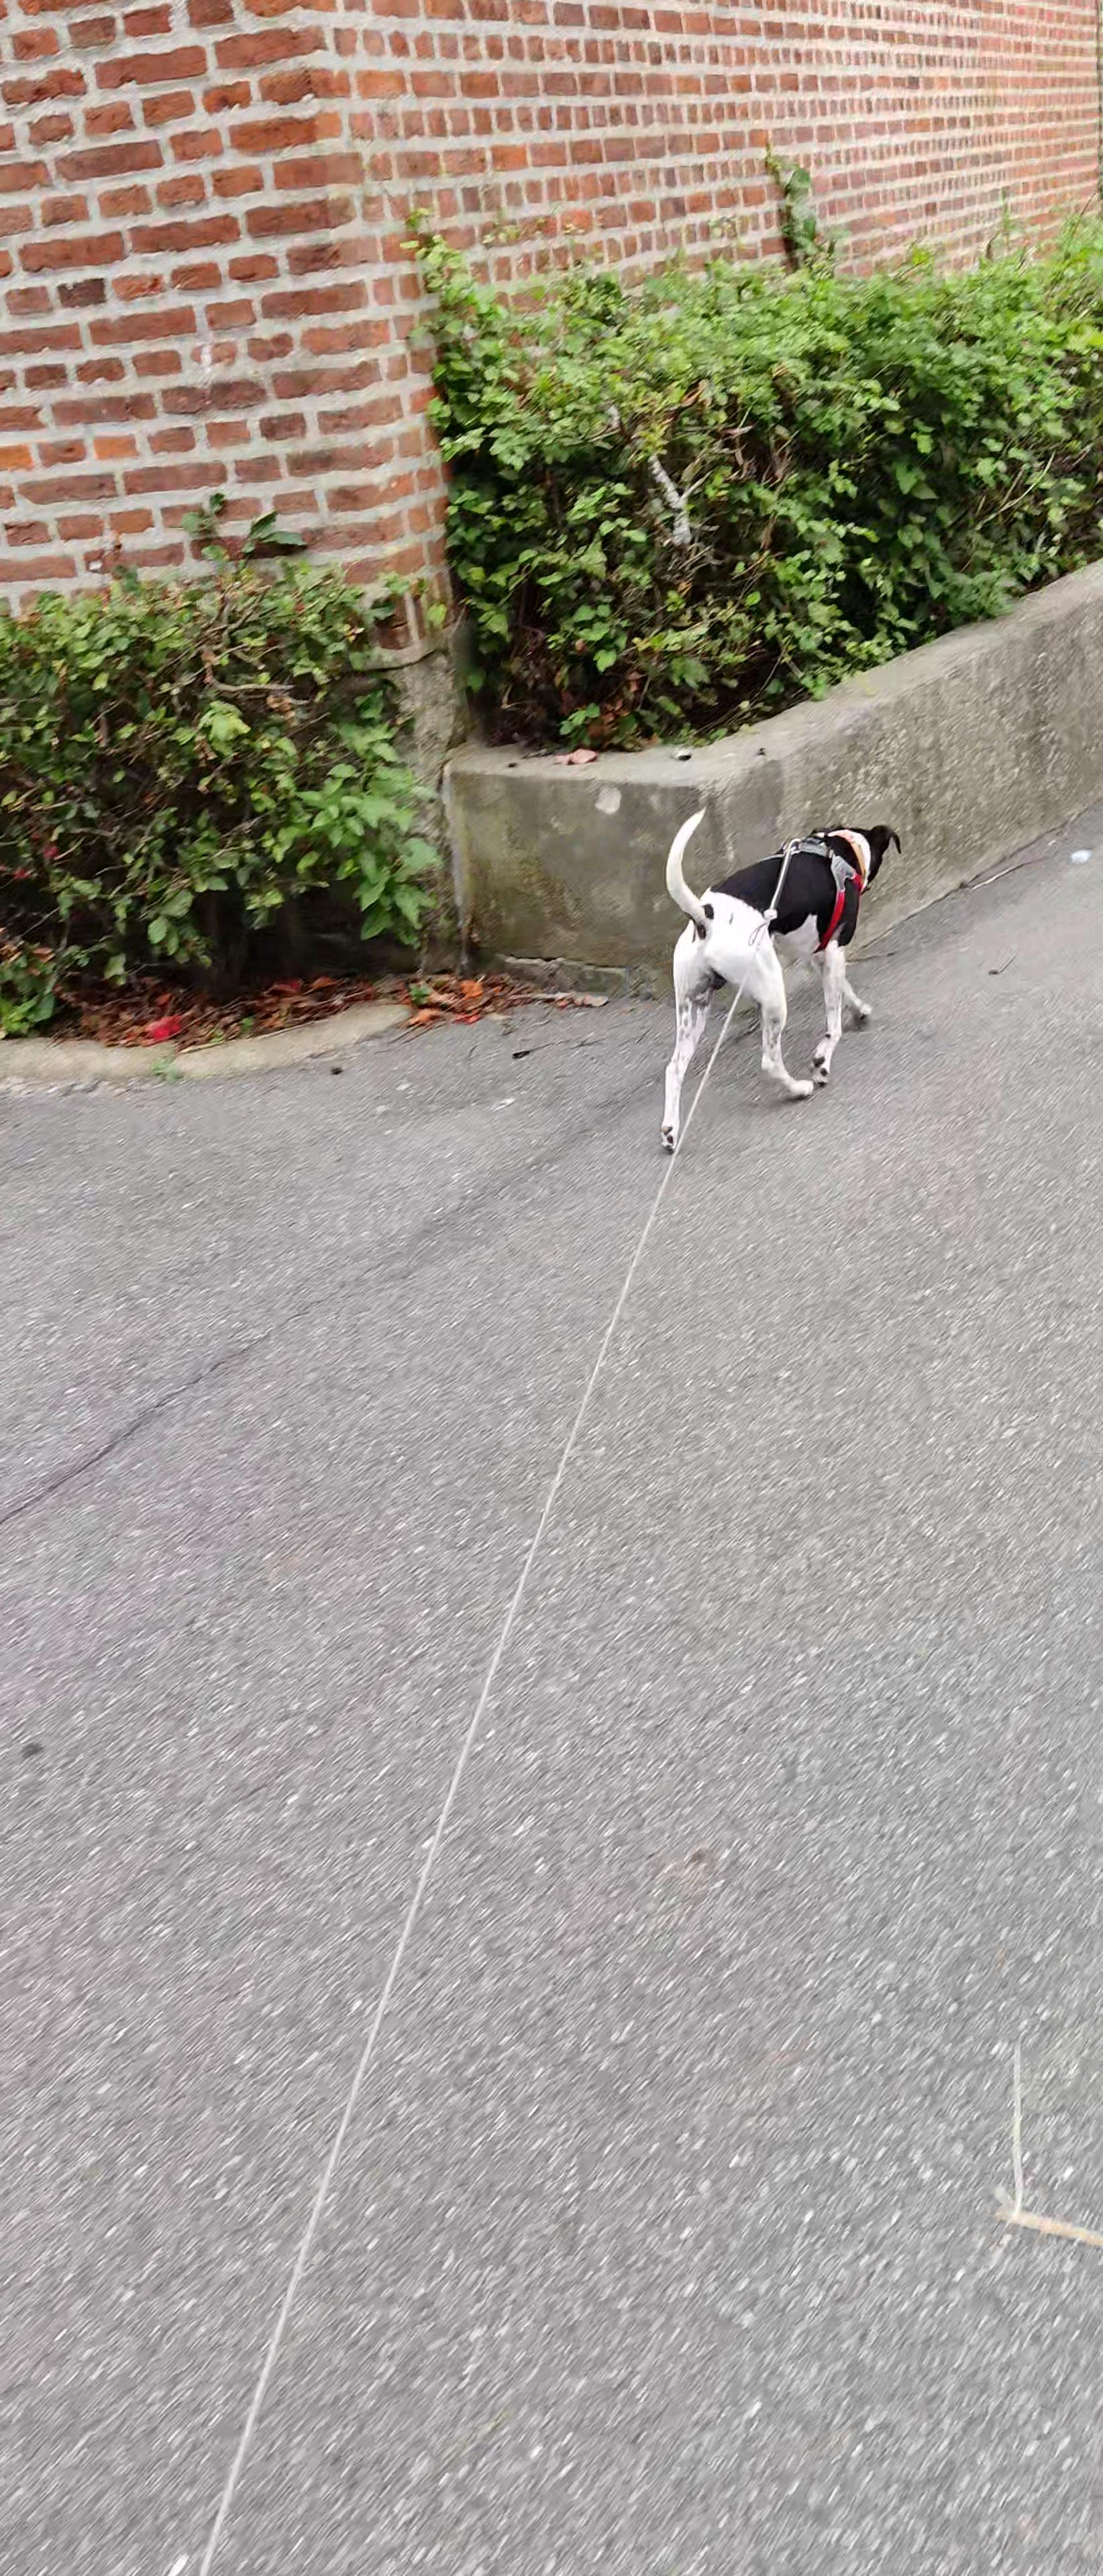Dog: (636, 797, 906, 1160)
